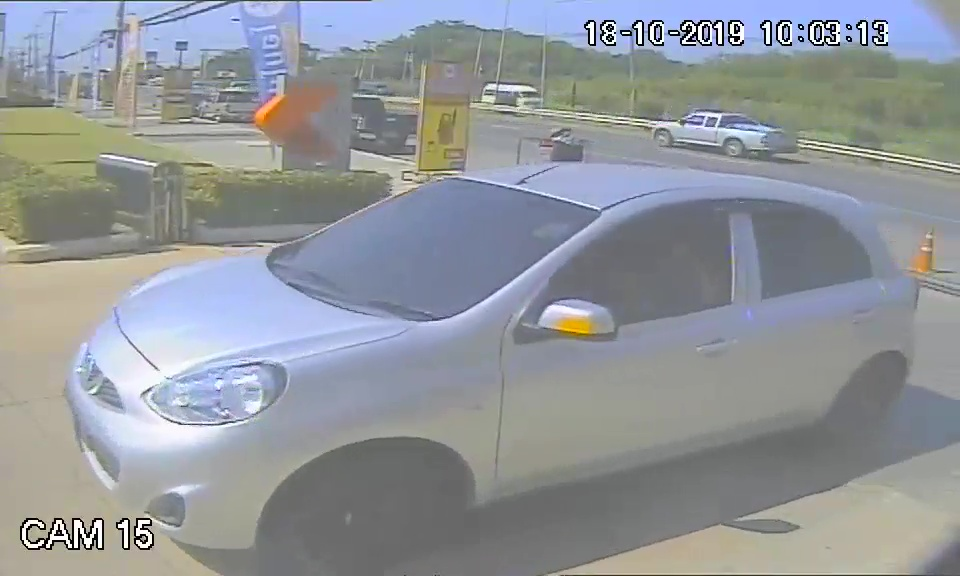sedan: (66, 160, 879, 550)
